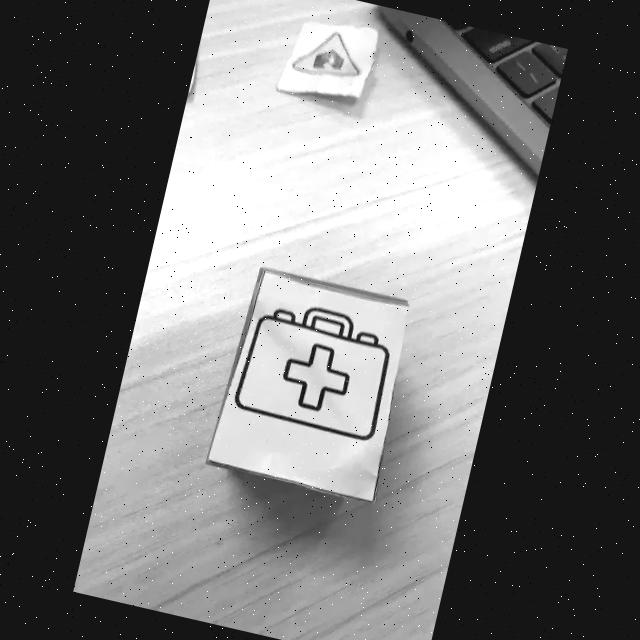Medkit: (234, 306, 392, 440)
